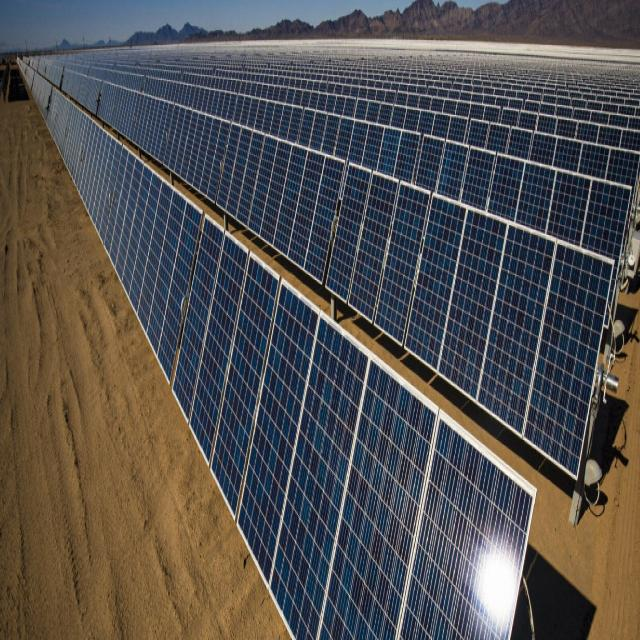clean-solar-panel: (22, 68, 535, 639), (30, 45, 640, 477)
